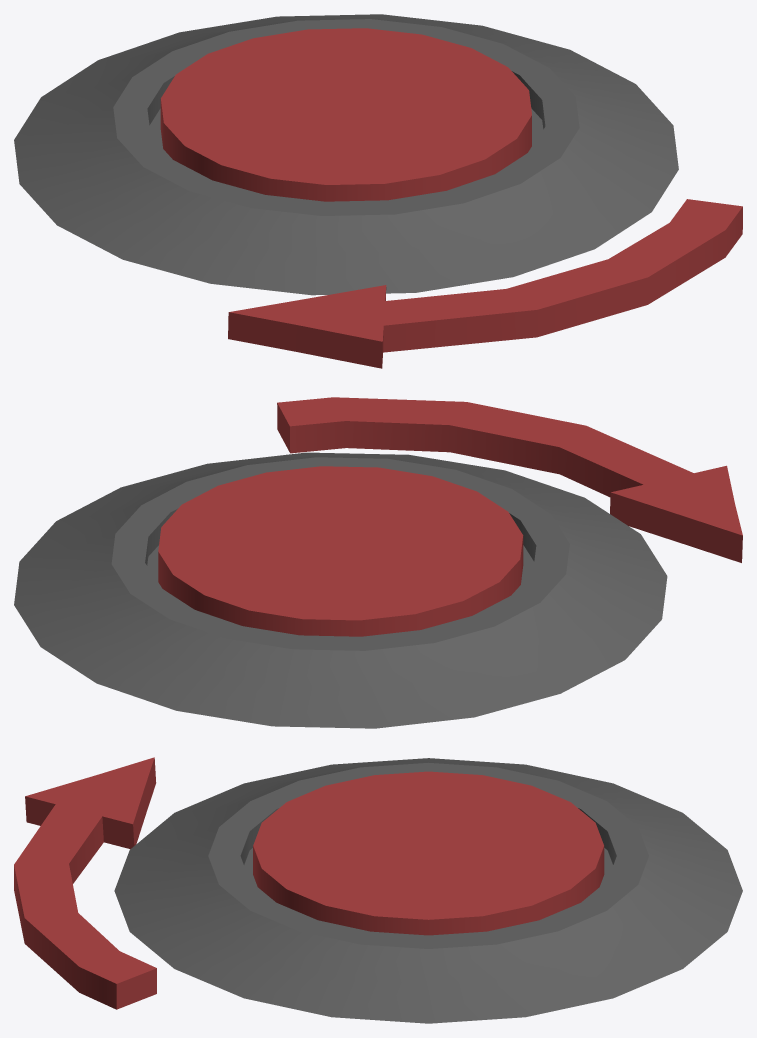
Rendered from Button_3.fbx.
3 views of the same model, one above another, from view 1: azimuth 30°, elevation 25°; view 2: azimuth 150°, elevation 25°; view 3: azimuth 270°, elevation 25° (orthographic). The views are drawn at different scales.
Parts seen in each view (by area): view 1: Button_3; view 2: Button_3; view 3: Button_3.
Boxes of the visible parts, <box> form: Button_3: <box>14,14,742,368</box>; Button_3: <box>14,397,742,728</box>; Button_3: <box>14,757,742,1023</box>.
Bounding box in the file's own units: 11.42 × 1.17 × 13.24.
